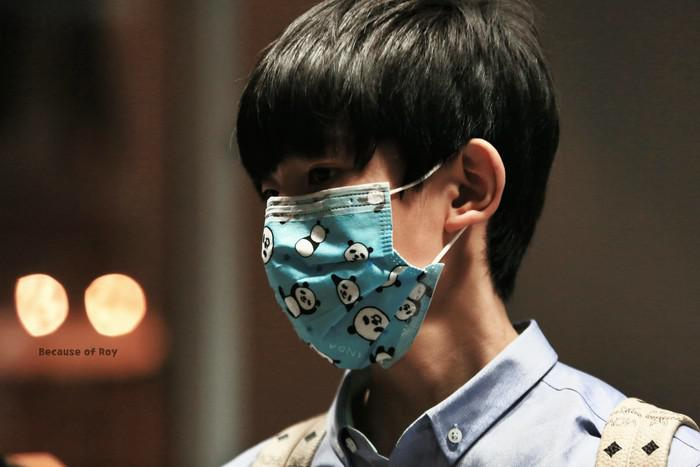OK: (261, 149, 478, 366)
